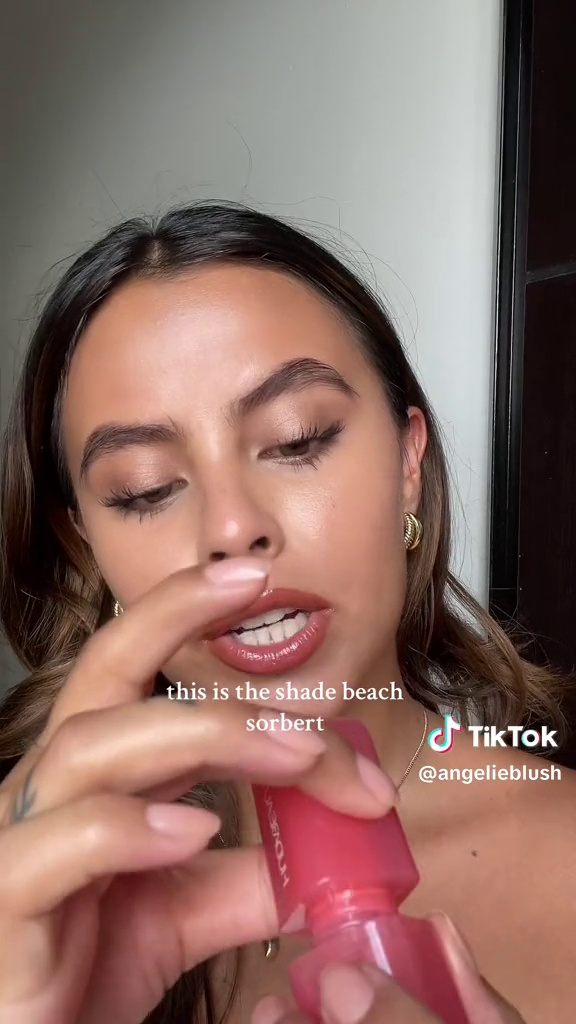train' :'yolo_data/train/images',: (215, 709, 471, 1023)
